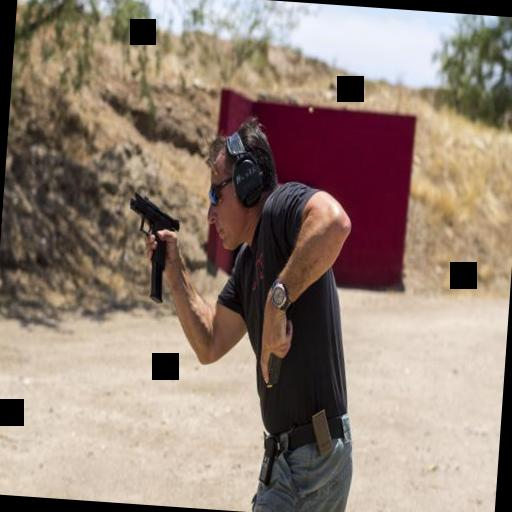Handgun: (122, 186, 181, 270)
